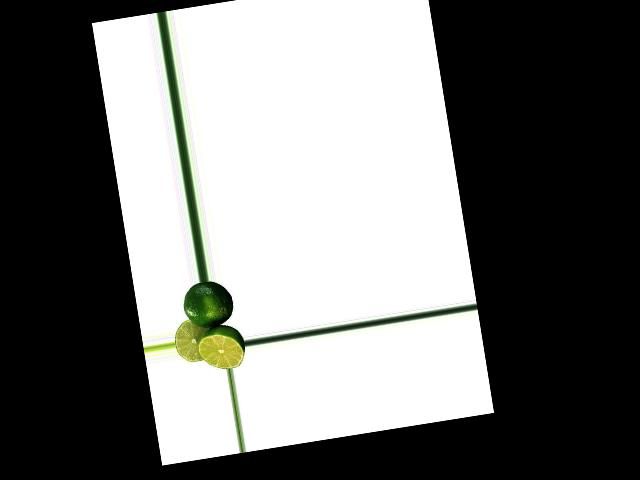lemon: (181, 278, 235, 333)
